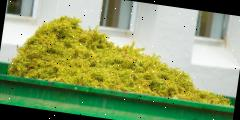organic: (42, 34, 114, 70)
